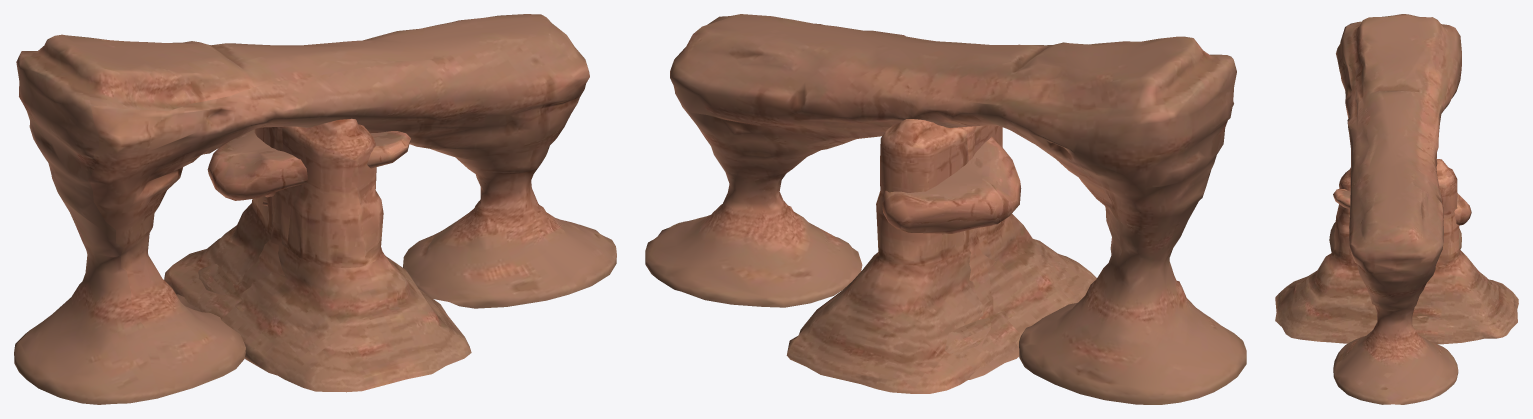
Rendered from Zone_Outpost_CannyValley_Skybox.glb.
3 views of the same model, side by side, from view 1: azimuth 30°, elevation 25°; view 2: azimuth 150°, elevation 25°; view 3: azimuth 270°, elevation 25° (orthographic). The views are drawn at different scales.
Visible parts, largest first — view 1: SM_Background_Arch, SM_AridBackroundMountain_1, SM_BackgroundRock, SM_AridBackroundMountain_2; view 2: SM_Background_Arch, SM_AridBackroundMountain_1, SM_BackgroundRock, SM_AridBackroundMountain_2; view 3: SM_Background_Arch, SM_AridBackroundMountain_1, SM_BackgroundRock.
Boxes of the visible parts, x1,y1,x2,y2 form: SM_Background_Arch: [14, 14, 616, 404]; SM_AridBackroundMountain_1: [164, 118, 471, 392]; SM_BackgroundRock: [198, 129, 410, 311]; SM_AridBackroundMountain_2: [176, 126, 286, 319]; SM_Background_Arch: [645, 14, 1246, 404]; SM_AridBackroundMountain_1: [786, 119, 1096, 393]; SM_BackgroundRock: [882, 136, 1021, 353]; SM_AridBackroundMountain_2: [956, 126, 1020, 379]; SM_Background_Arch: [1329, 14, 1461, 404]; SM_AridBackroundMountain_1: [1275, 159, 1518, 344]; SM_BackgroundRock: [1333, 189, 1471, 225].
Size of what is drawn, in the model's own units: 12.89 by 6.89 by 6.93.
4 materials, 4 textured.
